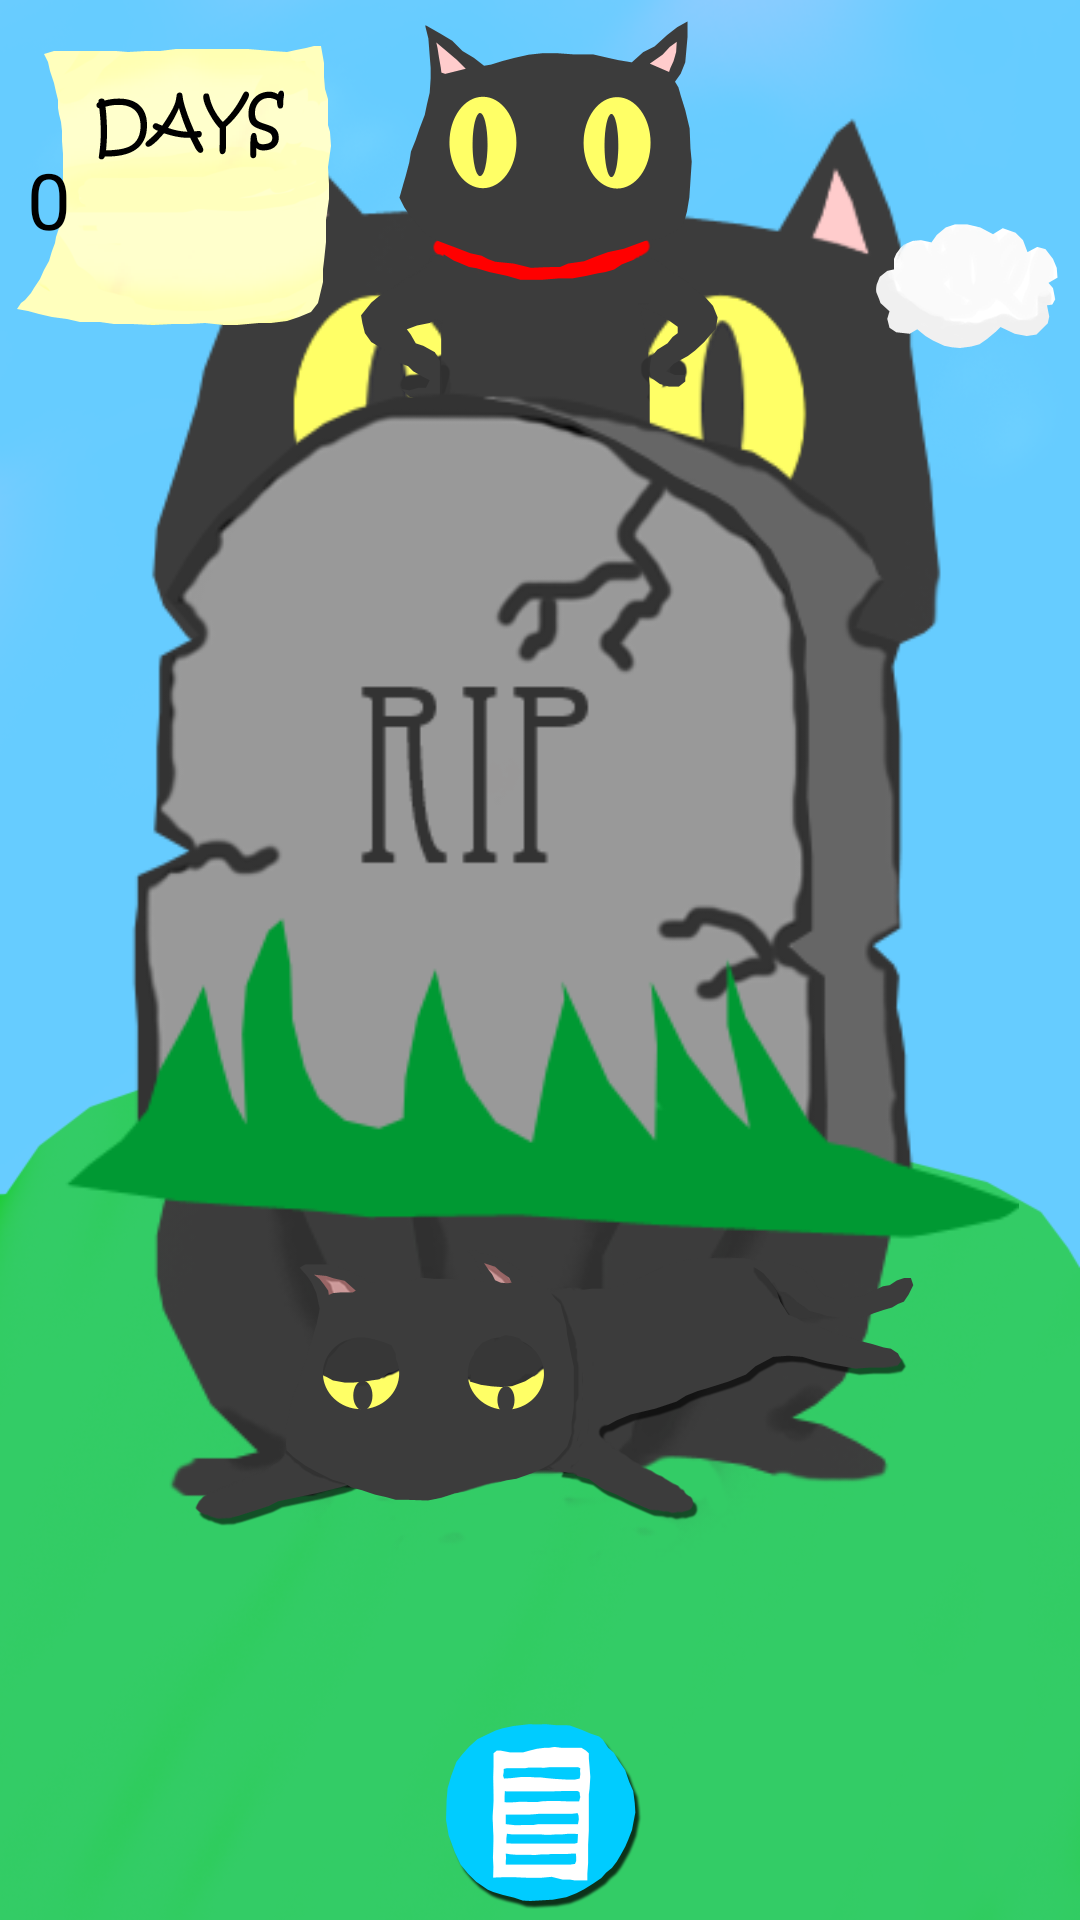

Icons on this 1080 × 1920 Android screen, each with its box as [x1=x1, y1=y1, x2=x2, y2=y2]:
cat log: [x1=446, y1=1724, x2=641, y2=1908]
